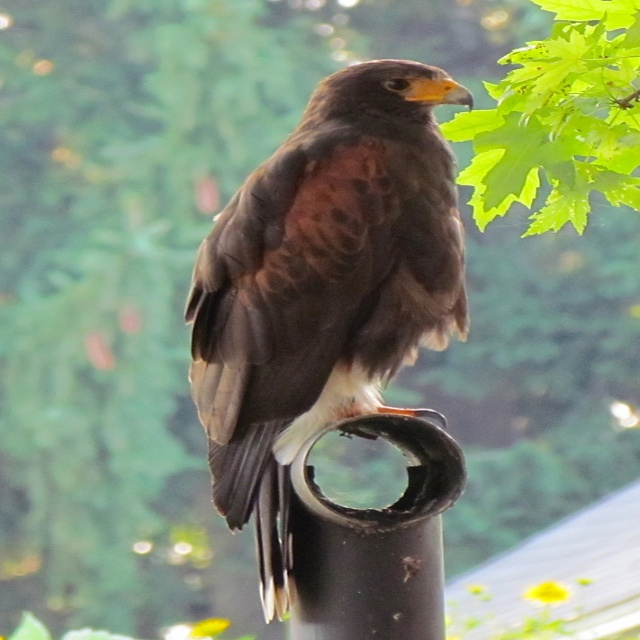Eagle: (178, 59, 480, 622)
